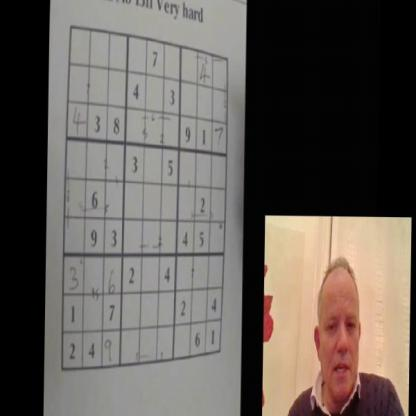sudoku: (58, 20, 232, 376)
